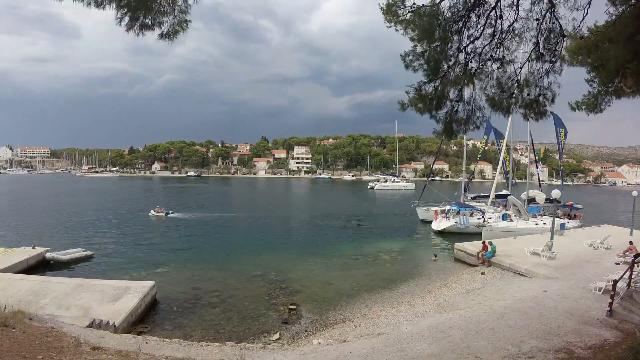Sailboat: (364, 172, 420, 194)
speedboat: (146, 200, 174, 220)
